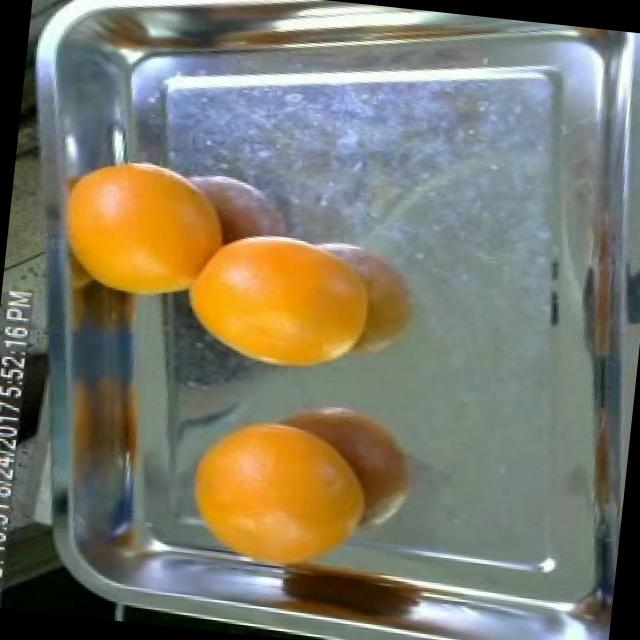Fruit: (29, 128, 270, 328), (162, 207, 390, 392), (57, 354, 173, 534)
